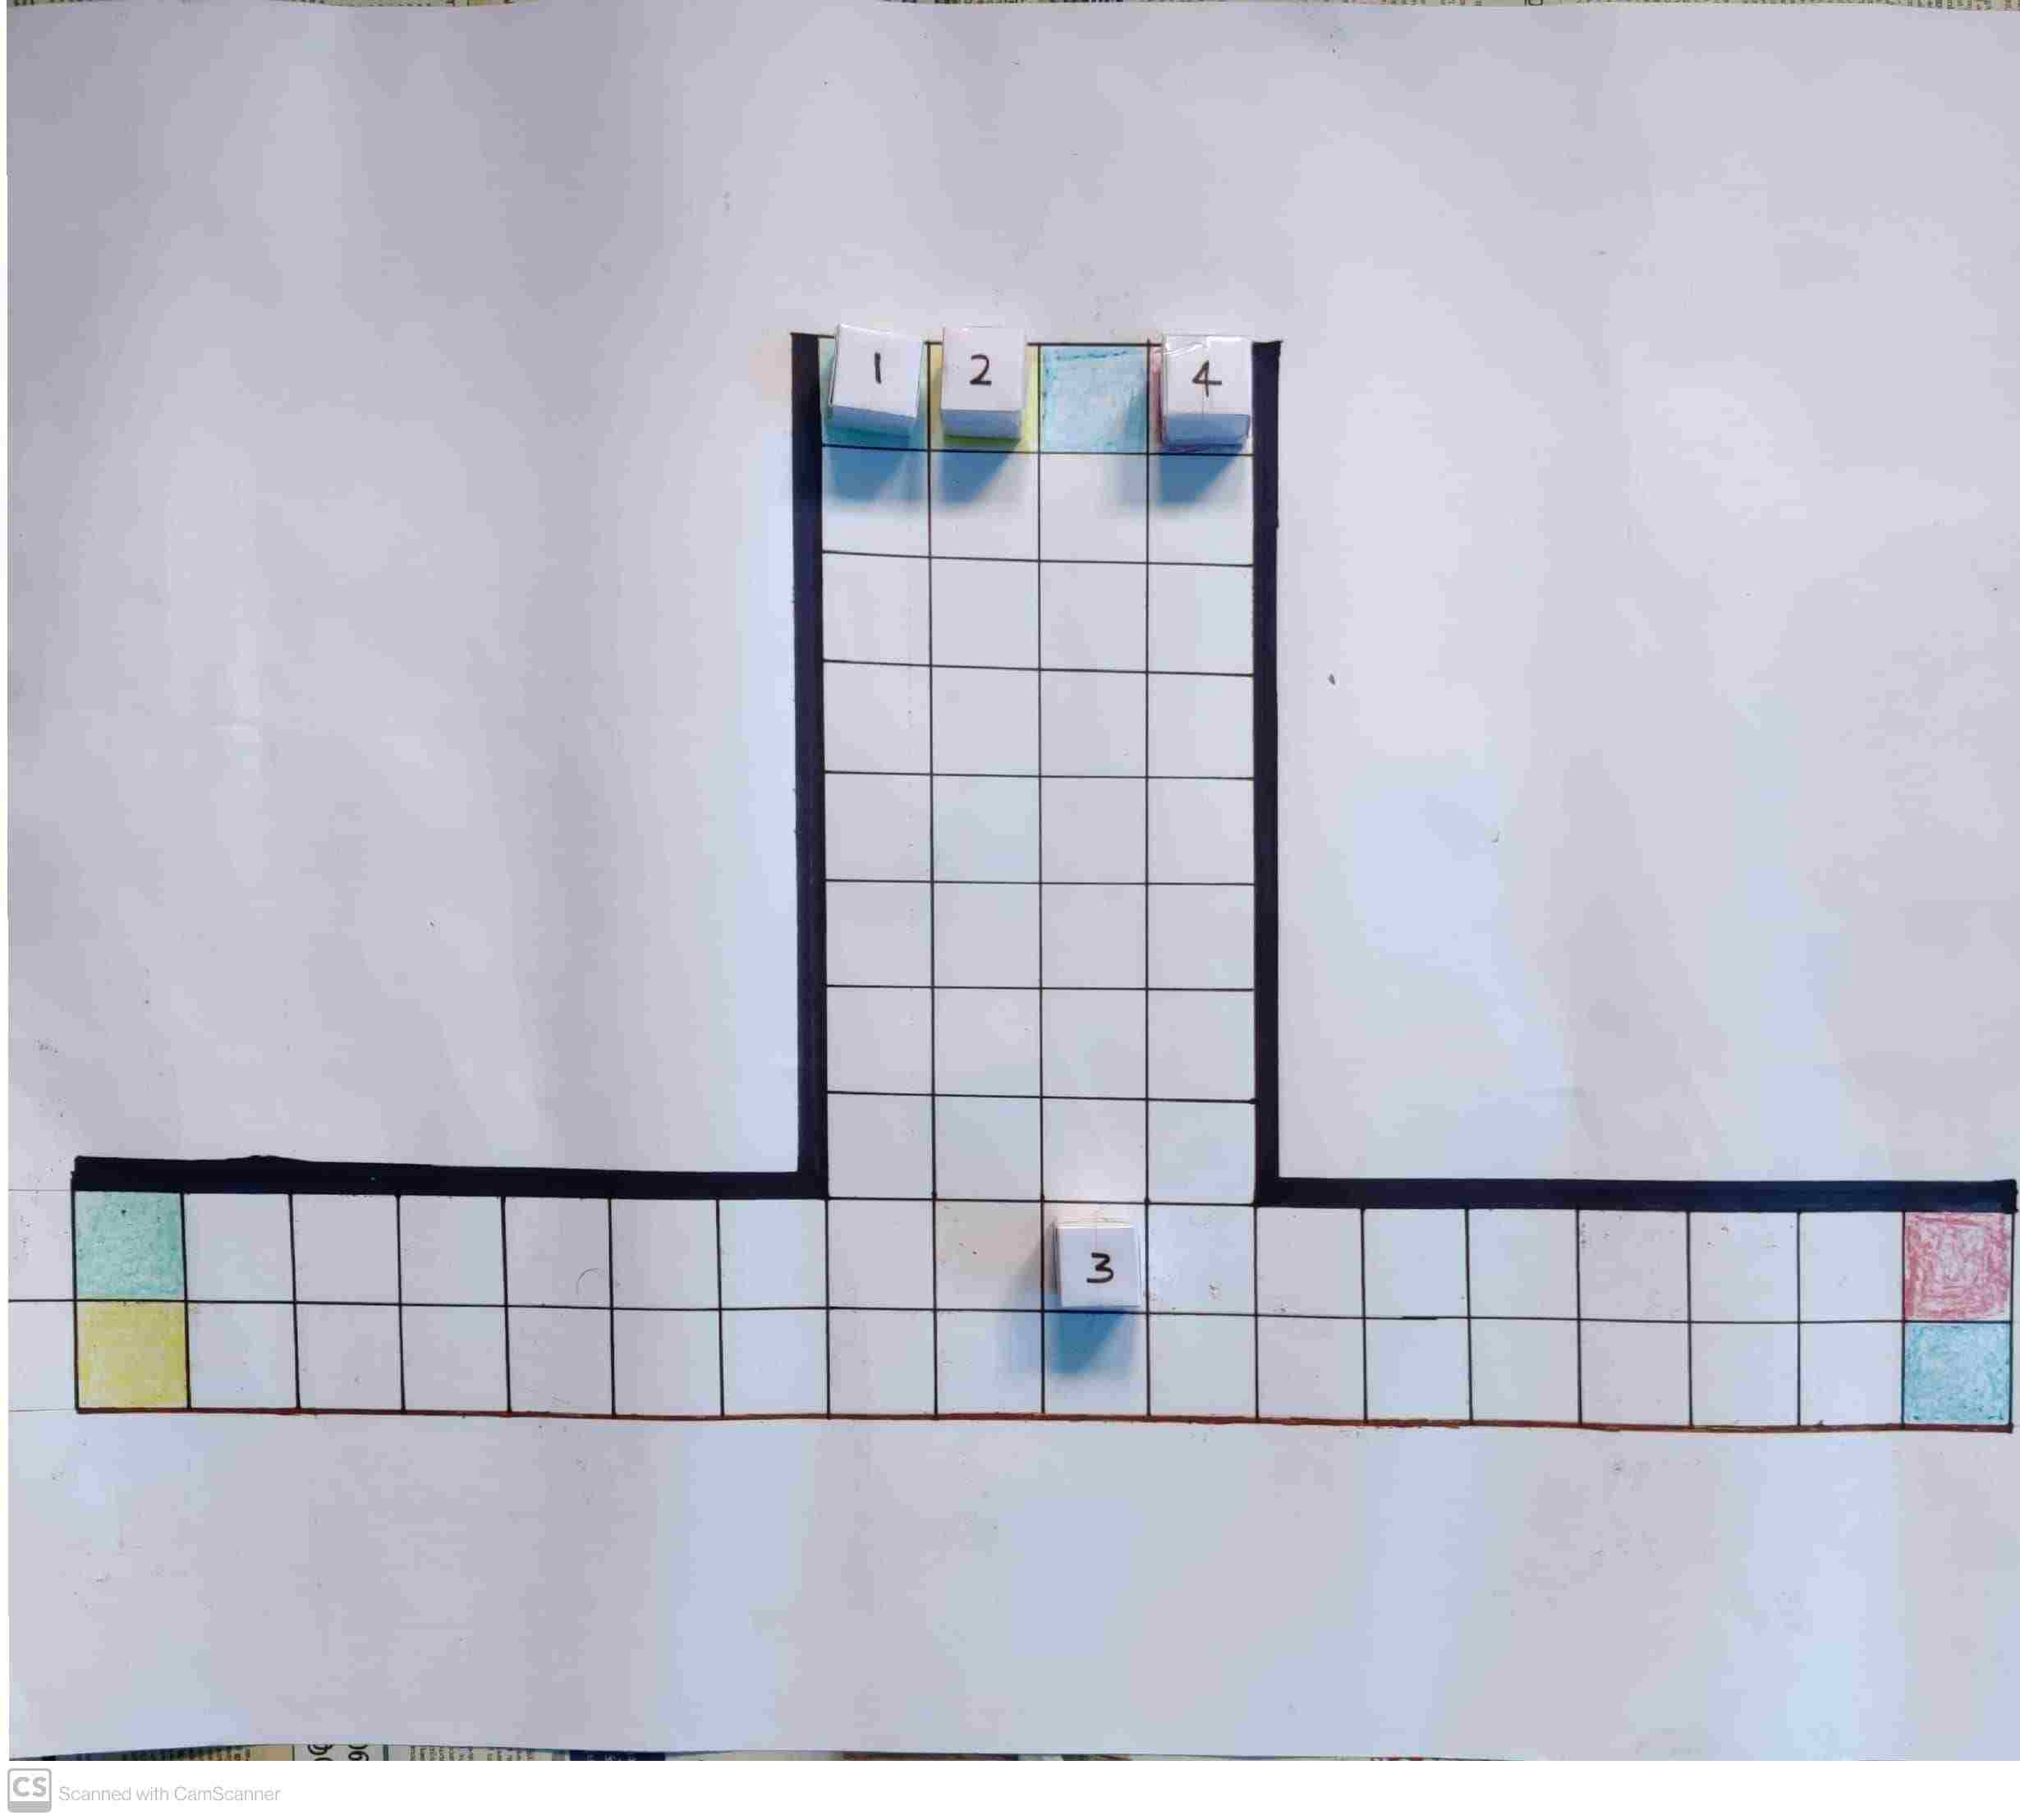arena: (76, 336, 2008, 1416)
bot: (834, 336, 922, 415), (1163, 336, 1249, 415), (1061, 1224, 1135, 1309), (947, 337, 1026, 411)
